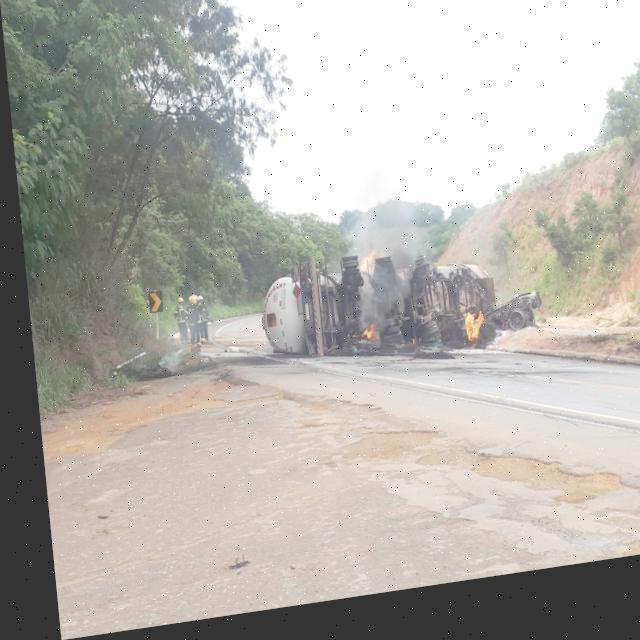Fire: (454, 322, 478, 356), (355, 336, 369, 348)
